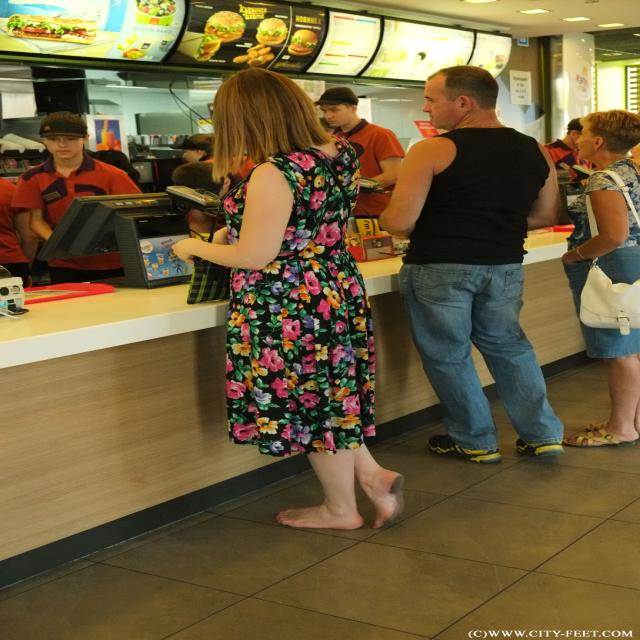No Safety Boots: (276, 505, 365, 530), (370, 470, 404, 529)
